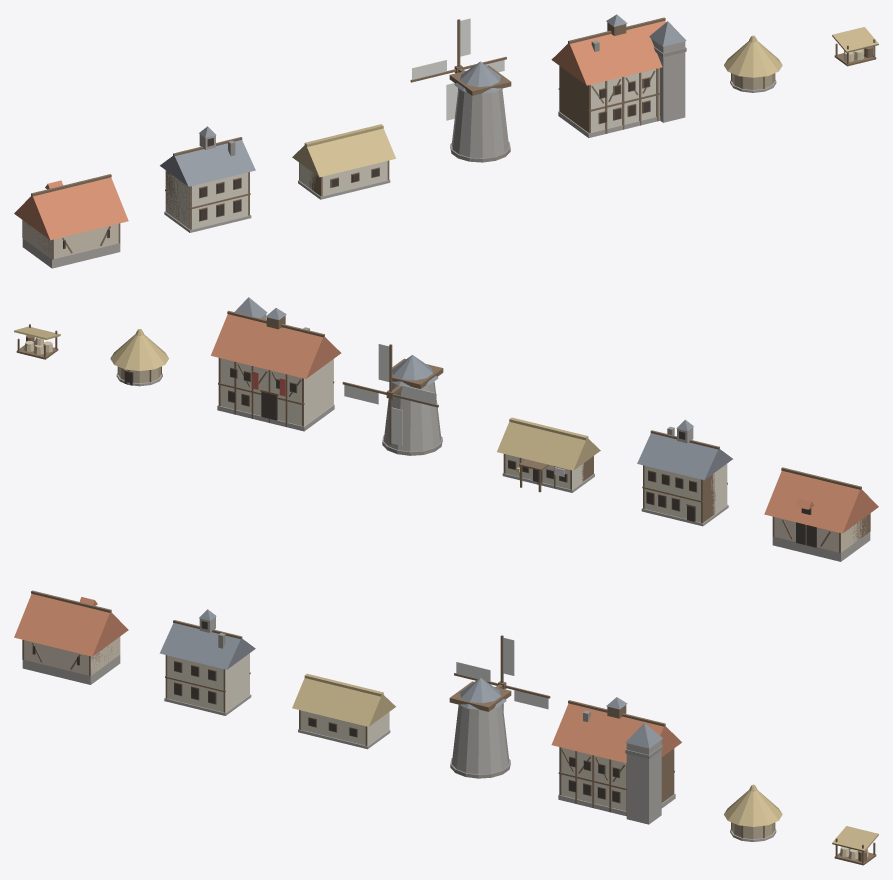
The model's file is civic.glb.
3 renders of one model, top to bottom at view 1: azimuth 30°, elevation 25°; view 2: azimuth 150°, elevation 25°; view 3: azimuth 330°, elevation 25°, orthographic.
Parts seen in each view (by area): view 1: hall, granary, school, mend, mill, hut, sails, store; view 2: hall, granary, school, mend, mill, sails, hut, store; view 3: hall, granary, school, mend, mill, hut, sails, store.
Part boxes in pixels (bbox=[...]): hall: bbox=[551, 14, 686, 137]; granary: bbox=[14, 174, 128, 268]; school: bbox=[160, 126, 255, 232]; mend: bbox=[292, 124, 395, 199]; mill: bbox=[449, 61, 511, 162]; hut: bbox=[724, 35, 782, 92]; sails: bbox=[410, 18, 506, 120]; store: bbox=[832, 27, 878, 66]; hall: bbox=[211, 297, 341, 431]; granary: bbox=[764, 467, 878, 561]; school: bbox=[637, 419, 732, 526]; mend: bbox=[497, 417, 600, 492]; mill: bbox=[382, 355, 443, 455]; sails: bbox=[342, 344, 438, 445]; hut: bbox=[110, 329, 168, 386]; store: bbox=[14, 324, 60, 359]; hall: bbox=[551, 697, 681, 824]; granary: bbox=[14, 590, 128, 684]; school: bbox=[159, 609, 255, 715]; mend: bbox=[292, 673, 395, 749]; mill: bbox=[449, 677, 511, 778]; hut: bbox=[724, 784, 782, 841]; sails: bbox=[454, 635, 550, 710]; store: bbox=[832, 826, 878, 865].
Size of the model in its own units: 98.55 by 12.8 by 8.46.
